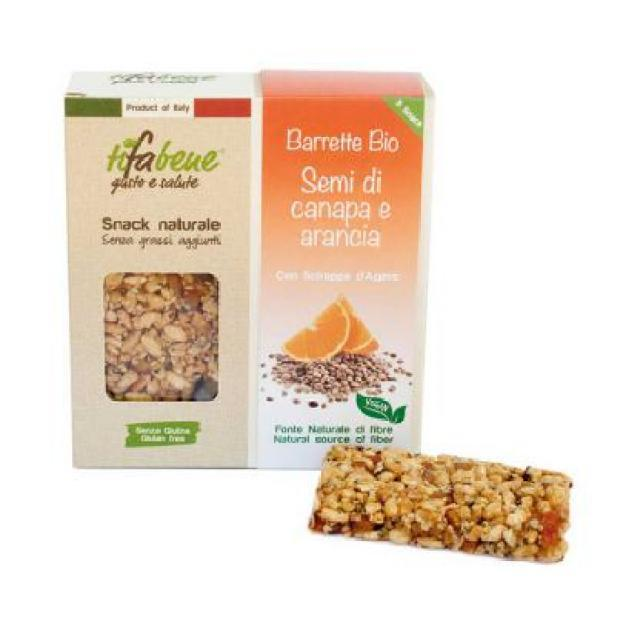Cereal bar packaged: (304, 434, 576, 566)
